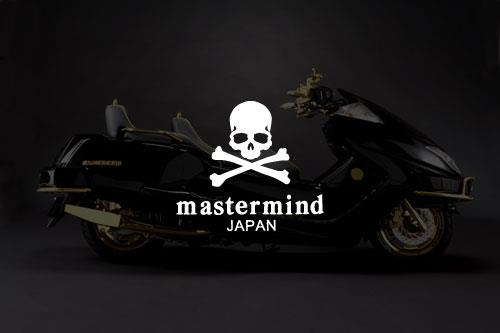mastermind_JAPAN: (194, 90, 299, 189)
